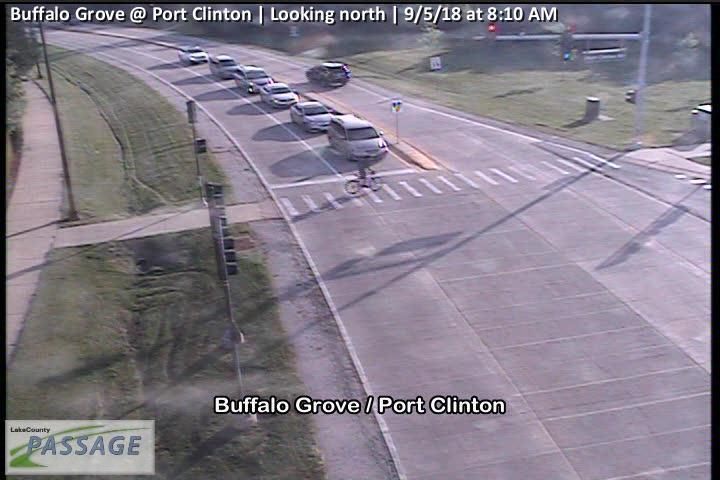SUV: (327, 114, 388, 162)
Sedan: (288, 102, 333, 133), (306, 63, 351, 88), (233, 67, 272, 92), (260, 83, 297, 108), (209, 56, 238, 77), (177, 46, 207, 64)
